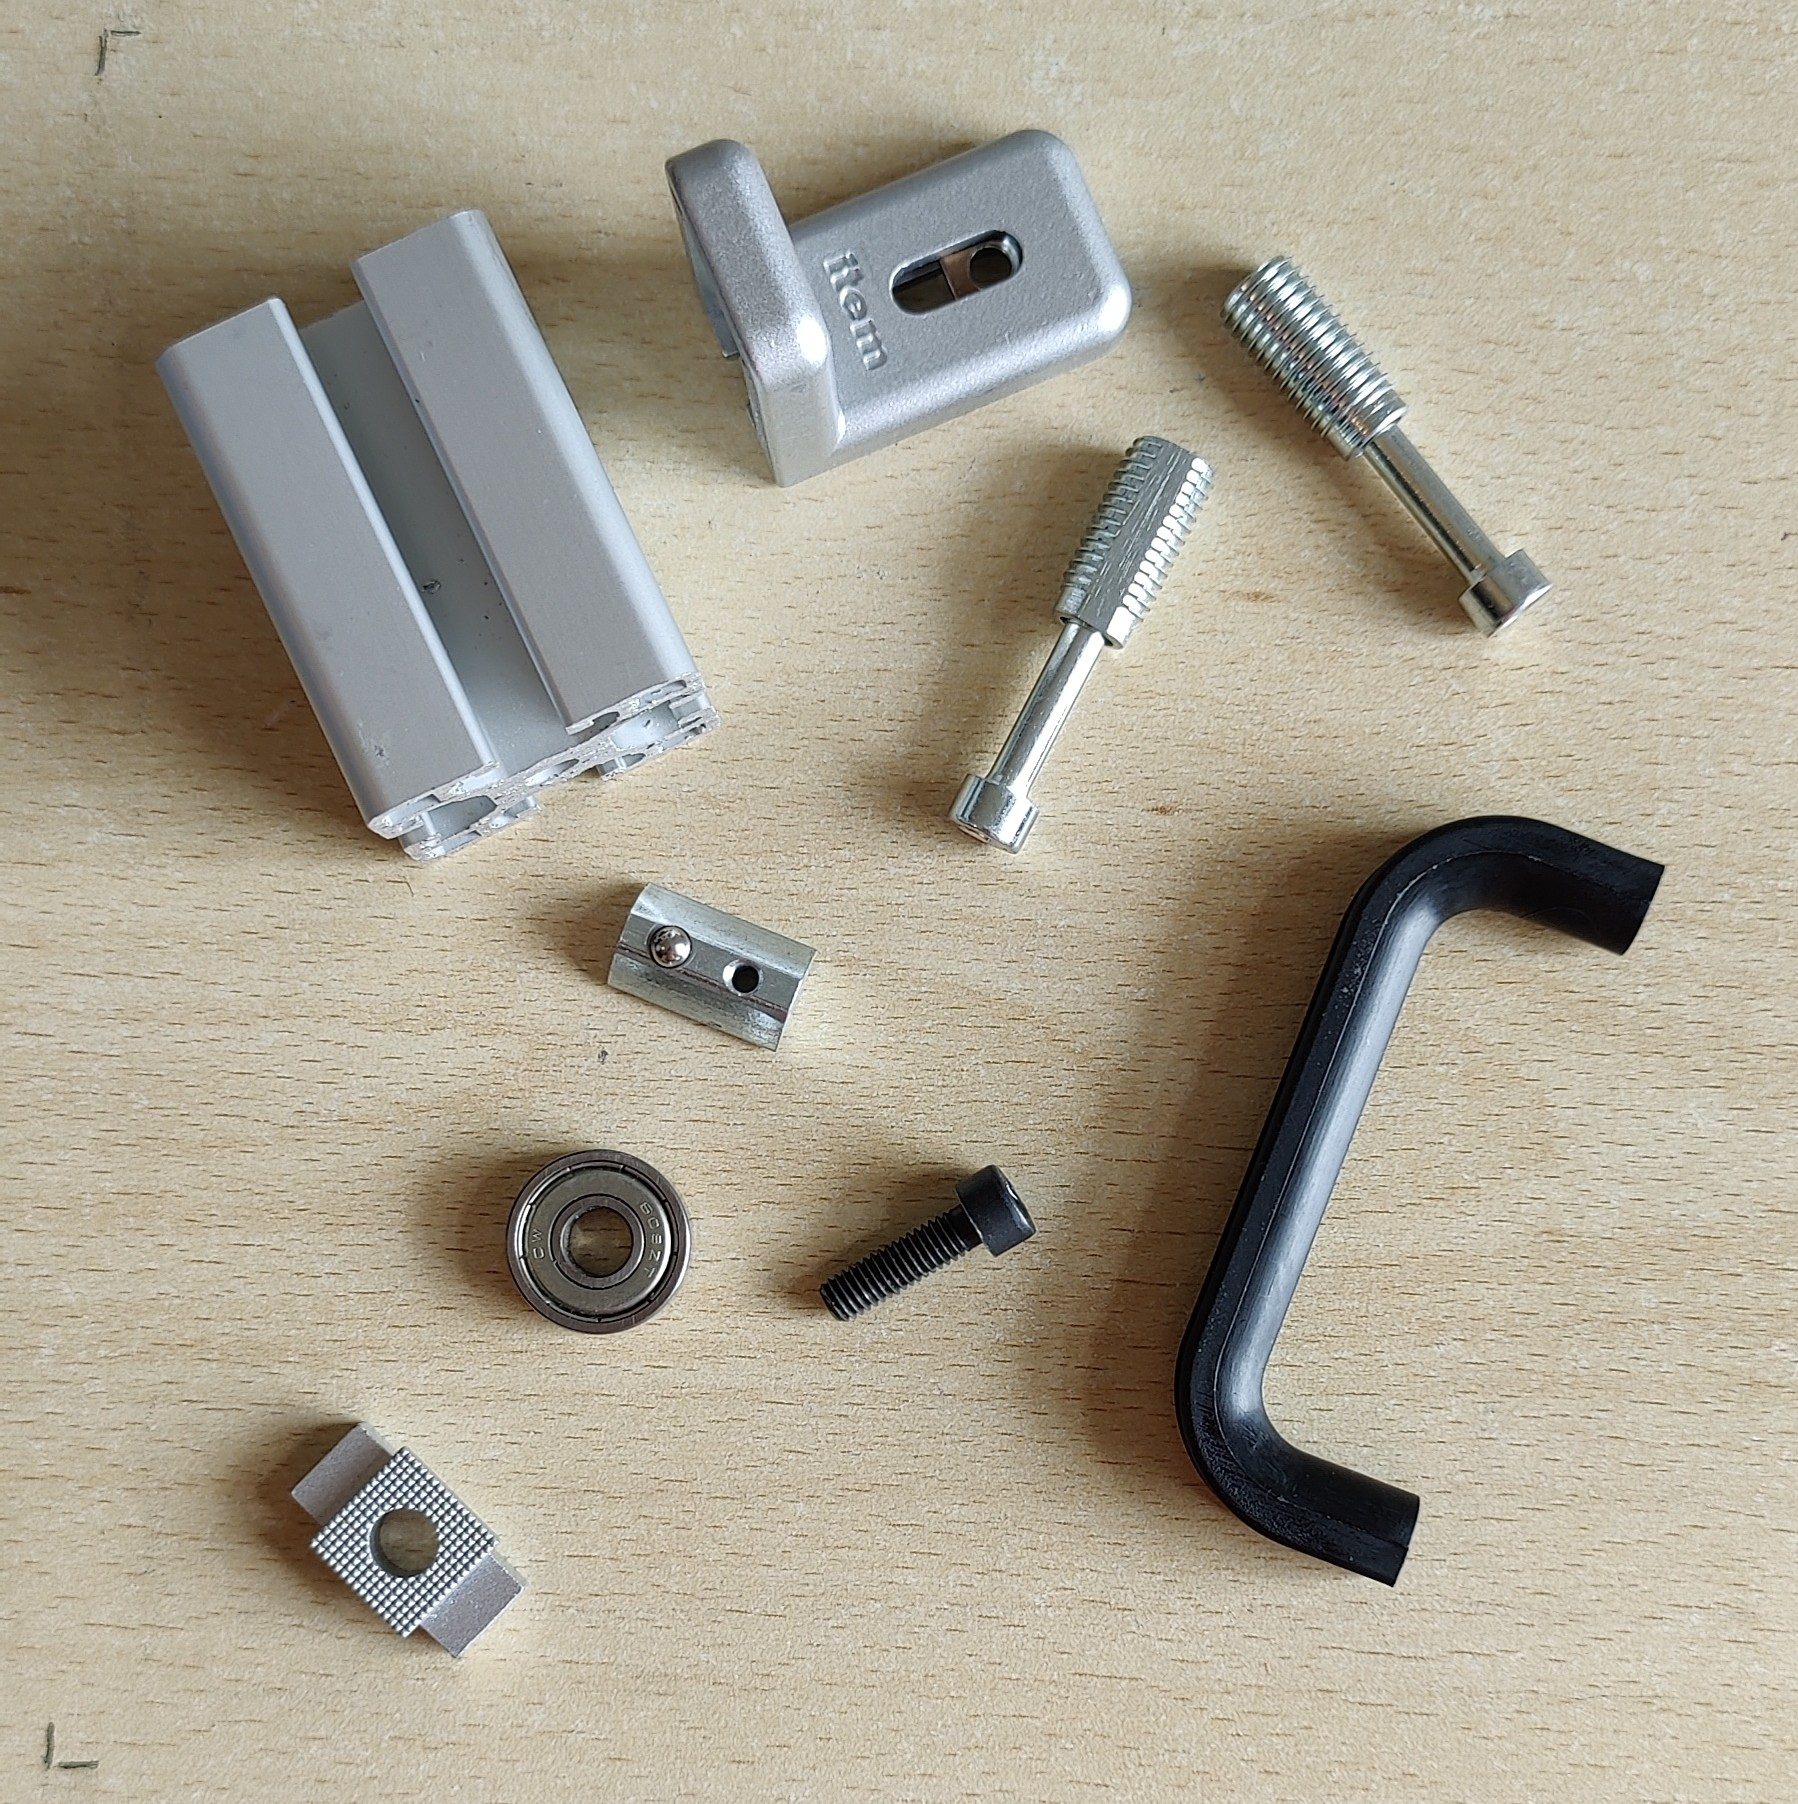Aluminium Extension: (151, 207, 723, 867)
Ball Bearing: (502, 1147, 693, 1337)
Multiwinkel: (660, 127, 1136, 491)
Pull Handle: (1172, 811, 1670, 1590)
Shoulder Socket Head Cap Screw: (1218, 250, 1556, 642), (943, 430, 1213, 856)
Socket Head Cap Screw: (813, 1162, 1039, 1327)
T Nut Square: (286, 1420, 532, 1662)
T Spring Nut: (603, 881, 818, 1052)
